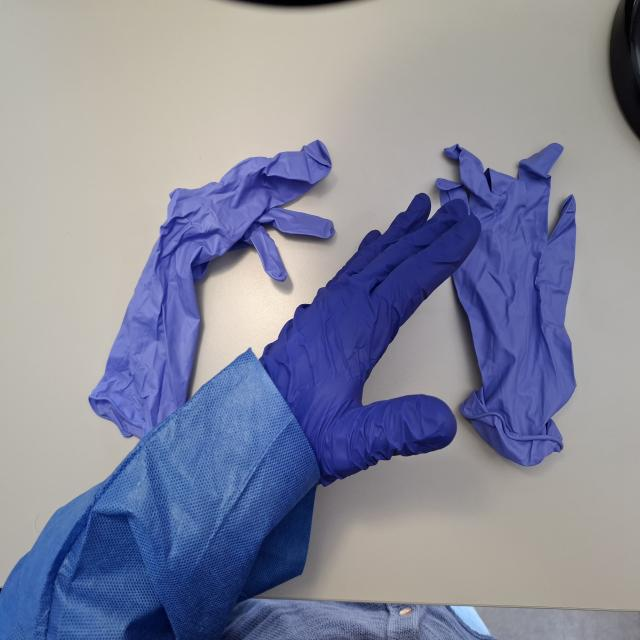glove_on: (254, 190, 484, 496)
